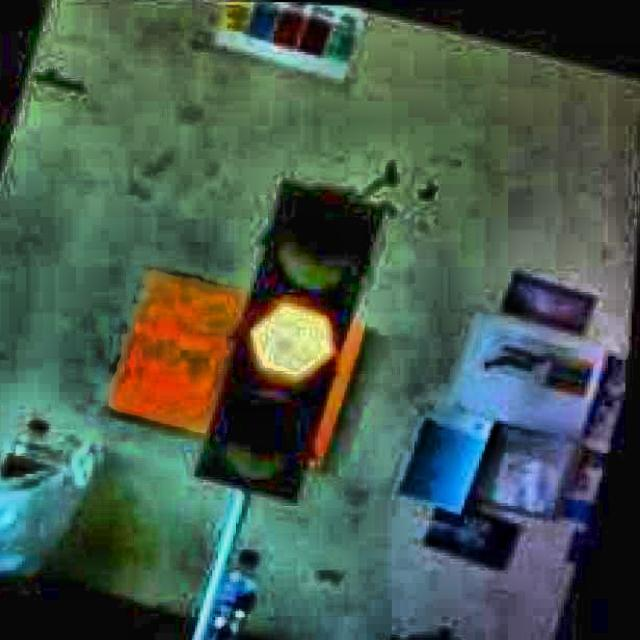yellow: (196, 166, 385, 512)
